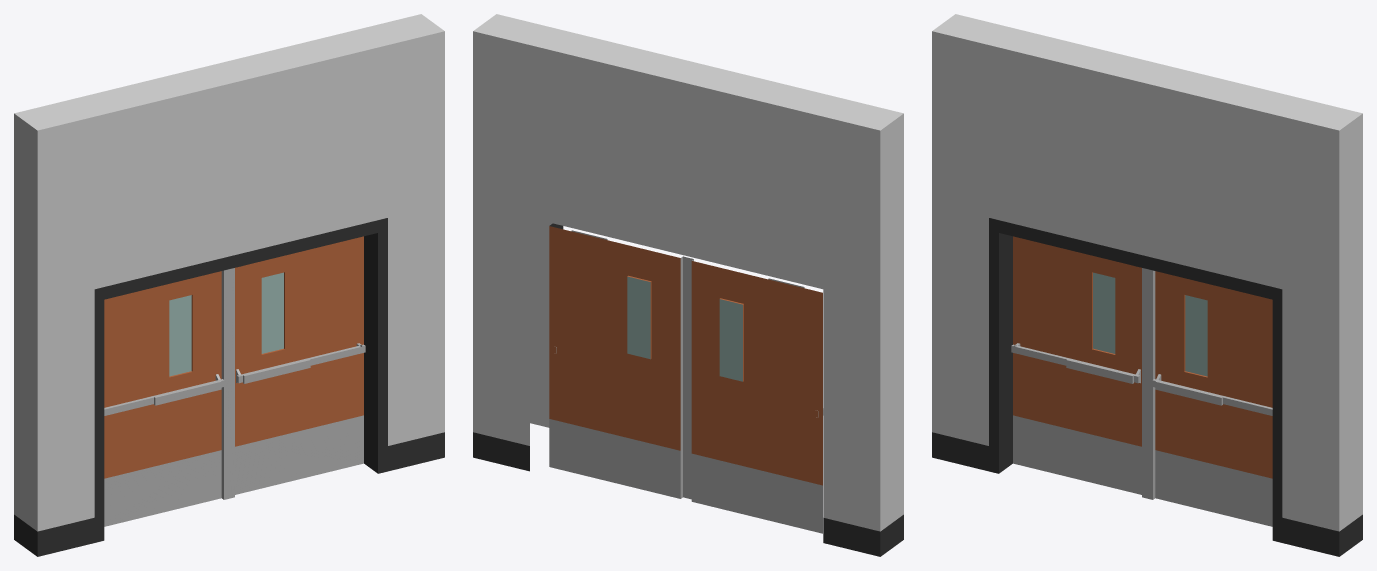
File: DoubleDoorWall.fbx
3 views of the same model, side by side, from view 1: azimuth 30°, elevation 25°; view 2: azimuth 150°, elevation 25°; view 3: azimuth 330°, elevation 25° (orthographic).
Visible parts, largest first — view 1: DoubleDoorWall.001; view 2: DoubleDoorWall.001; view 3: DoubleDoorWall.001.
Boxes of the visible parts, x1=… form: DoubleDoorWall.001: x1=14, y1=14, x2=444, y2=556; DoubleDoorWall.001: x1=473, y1=14, x2=903, y2=556; DoubleDoorWall.001: x1=932, y1=14, x2=1362, y2=556.
Size of the model in its own units: 500 by 500 by 50.
